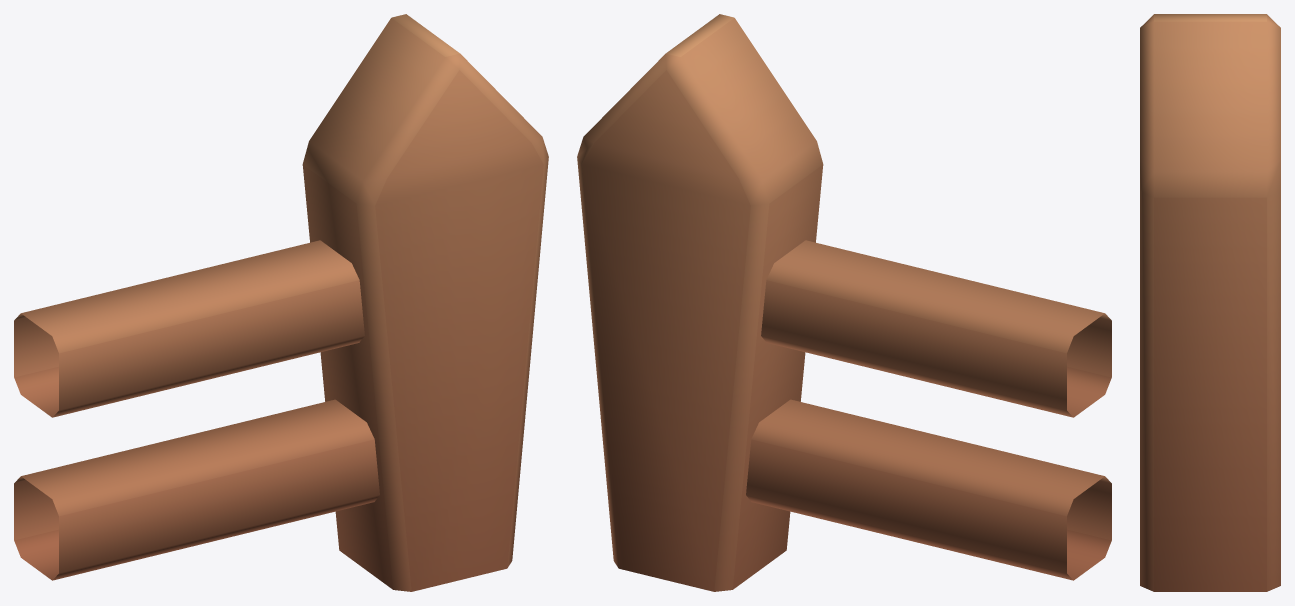
File: fence_open.fbx
3 renders of one model, left to right at view 1: azimuth 30°, elevation 25°; view 2: azimuth 150°, elevation 25°; view 3: azimuth 270°, elevation 25°, orthographic. The views are drawn at different scales.
Parts seen in each view (by area): view 1: fence_open; view 2: fence_open; view 3: fence_open.
Boxes of the visible parts, x1,y1,x2,y2 form: fence_open: (14,14,548,591); fence_open: (577,14,1111,591); fence_open: (1140,14,1280,591).
Bounding box in the file's own units: 125 × 128 × 30.
